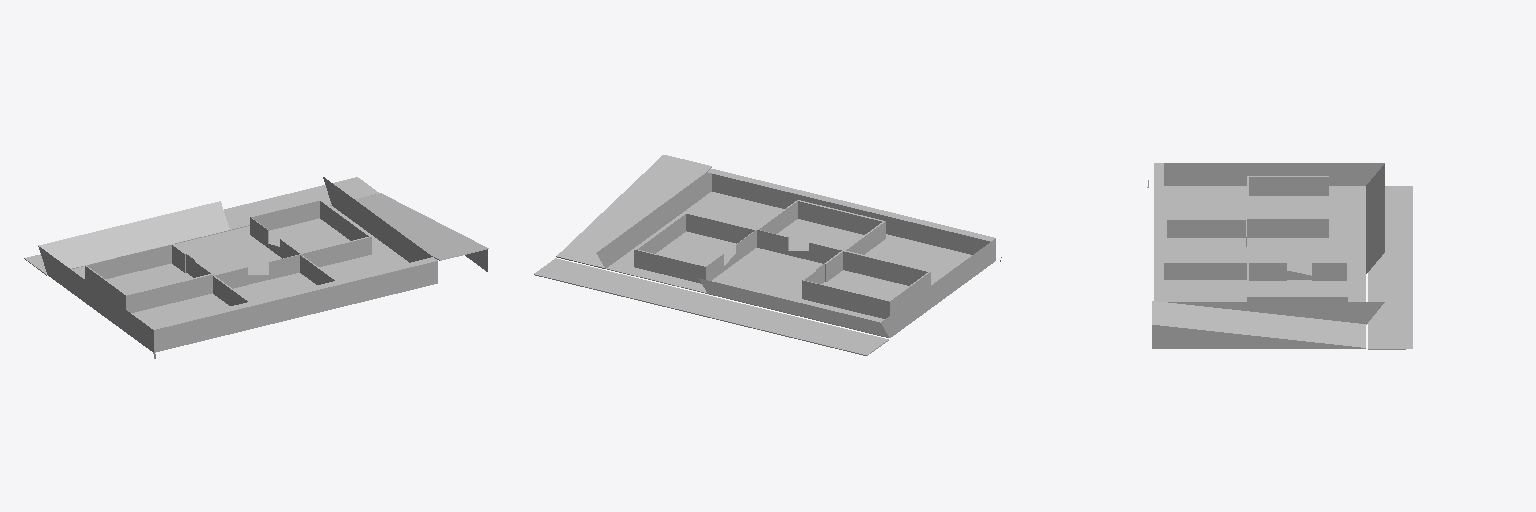
The model's file is SinPlafonConSalas.obj.
The picture shows the model from 3 angles: view 1: azimuth 30°, elevation 25°; view 2: azimuth 150°, elevation 25°; view 3: azimuth 270°, elevation 25°; orthographic projection.
Visible parts, largest first — view 1: Mesh5 Group7 Group1 Model, Mesh4 Group8 Group7 Group1 Model, Mesh9 Group14 Group13 Model, Mesh12 Group18 Group17 Model, Mesh2 Group4 Group1 Model, Mesh1 Group3 Group2 Group1 Model, Mesh6 Group10 Group9 Model, Mesh11 Group16 Group13 Model, Mesh7 Group11 Group9 Model; view 2: Mesh4 Group8 Group7 Group1 Model, Mesh5 Group7 Group1 Model, Mesh1 Group3 Group2 Group1 Model, Mesh2 Group4 Group1 Model, Mesh9 Group14 Group13 Model, Mesh12 Group18 Group17 Model, Mesh6 Group10 Group9 Model; view 3: Mesh4 Group8 Group7 Group1 Model, Mesh5 Group7 Group1 Model, Mesh1 Group3 Group2 Group1 Model, Mesh2 Group4 Group1 Model, Mesh9 Group14 Group13 Model, Mesh6 Group10 Group9 Model, Mesh3 Group6 Group1 Model, Mesh12 Group18 Group17 Model, Mesh14 Group20 Group17 Model, Mesh13 Group19 Group17 Model.
Boxes of the visible parts, <box> form: Mesh5 Group7 Group1 Model: <box>38,177,437,352</box>; Mesh4 Group8 Group7 Group1 Model: <box>71,206,408,325</box>; Mesh9 Group14 Group13 Model: <box>85,244,213,312</box>; Mesh12 Group18 Group17 Model: <box>250,199,371,266</box>; Mesh2 Group4 Group1 Model: <box>355,193,488,260</box>; Mesh1 Group3 Group2 Group1 Model: <box>24,177,379,275</box>; Mesh6 Group10 Group9 Model: <box>213,254,336,305</box>; Mesh11 Group16 Group13 Model: <box>138,245,171,270</box>; Mesh7 Group11 Group9 Model: <box>269,255,299,279</box>; Mesh4 Group8 Group7 Group1 Model: <box>606,192,971,322</box>; Mesh5 Group7 Group1 Model: <box>596,169,995,337</box>; Mesh1 Group3 Group2 Group1 Model: <box>534,258,888,355</box>; Mesh2 Group4 Group1 Model: <box>556,155,711,268</box>; Mesh9 Group14 Group13 Model: <box>802,250,930,318</box>; Mesh12 Group18 Group17 Model: <box>634,212,756,283</box>; Mesh6 Group10 Group9 Model: <box>757,200,885,259</box>; Mesh4 Group8 Group7 Group1 Model: <box>1164,186,1365,301</box>; Mesh5 Group7 Group1 Model: <box>1154,163,1384,324</box>; Mesh1 Group3 Group2 Group1 Model: <box>1368,186,1412,349</box>; Mesh2 Group4 Group1 Model: <box>1152,301,1365,348</box>; Mesh9 Group14 Group13 Model: <box>1247,176,1328,237</box>; Mesh6 Group10 Group9 Model: <box>1164,220,1246,279</box>; Mesh3 Group6 Group1 Model: <box>1152,326,1361,348</box>; Mesh12 Group18 Group17 Model: <box>1247,263,1347,301</box>; Mesh14 Group20 Group17 Model: <box>1249,263,1286,280</box>; Mesh13 Group19 Group17 Model: <box>1312,263,1346,280</box>.
Bounding box in the file's own units: 71.8 × 5.54 × 49.04.